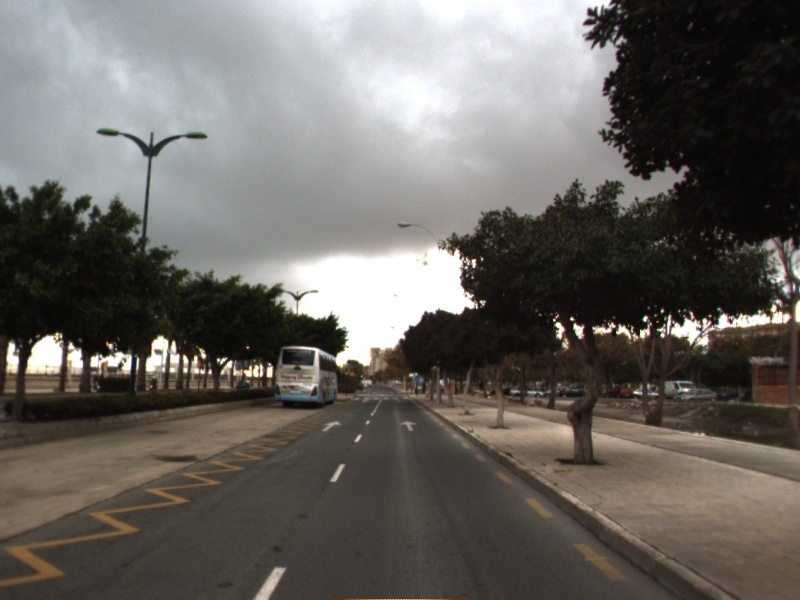STRAIGHT: (320, 419, 343, 433), (397, 419, 419, 433)
